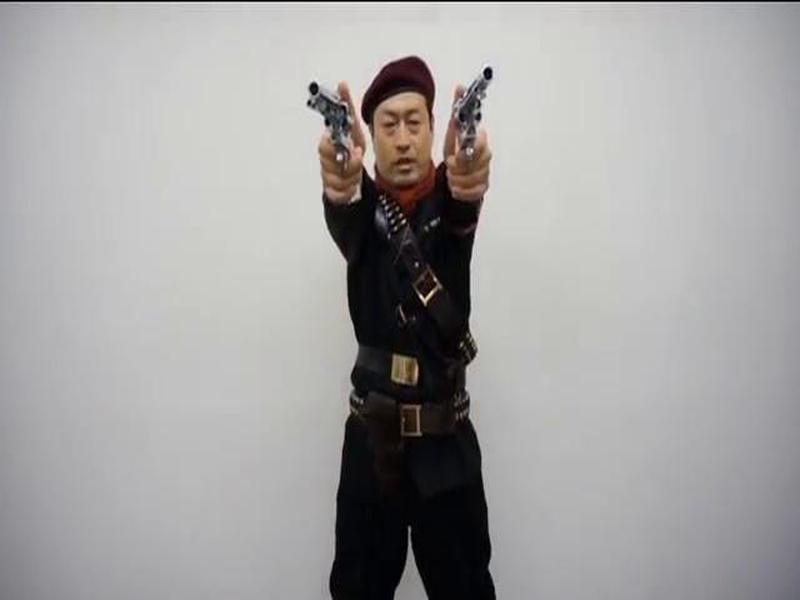Revolver: (441, 62, 507, 194), (297, 71, 371, 182)
